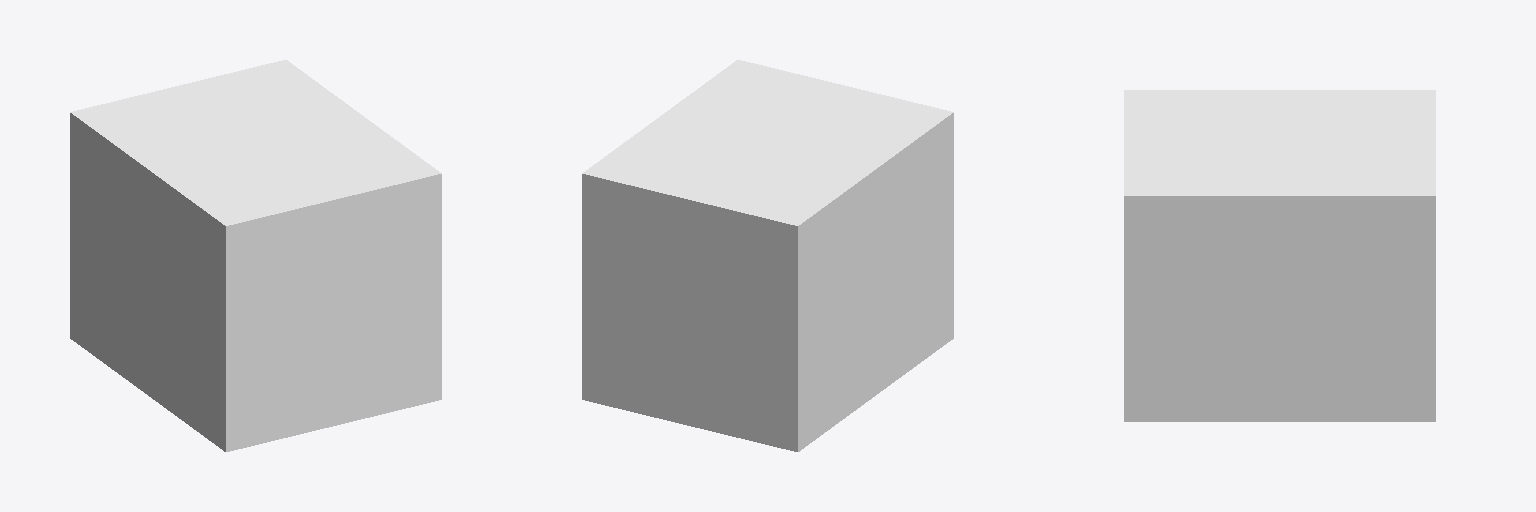
The model's file is Small_Bush.obj.
The picture shows the model from 3 angles: view 1: azimuth 30°, elevation 25°; view 2: azimuth 150°, elevation 25°; view 3: azimuth 270°, elevation 25°; orthographic projection.
Visible parts, largest first — view 1: object 1; view 2: object 1; view 3: object 1.
Boxes of the visible parts, box(x1,y1,x2,y2) form: object 1: box(70, 60, 441, 451); object 1: box(582, 60, 953, 451); object 1: box(1124, 90, 1435, 421).
Bounding box in the file's own units: 1.2 × 1.2 × 1.5.